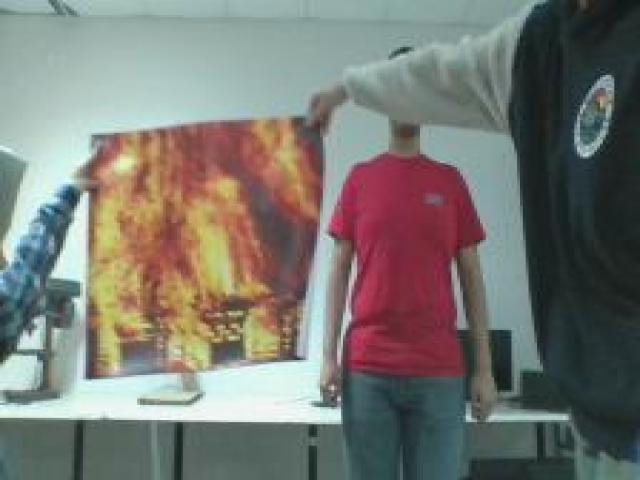fire-poster: (74, 114, 329, 382)
